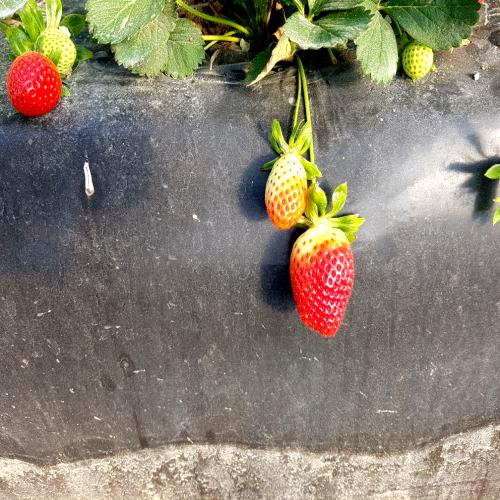partially-ripe: (255, 125, 306, 228)
ripe: (295, 218, 353, 335), (9, 33, 61, 134)
unripe: (402, 33, 435, 87)
